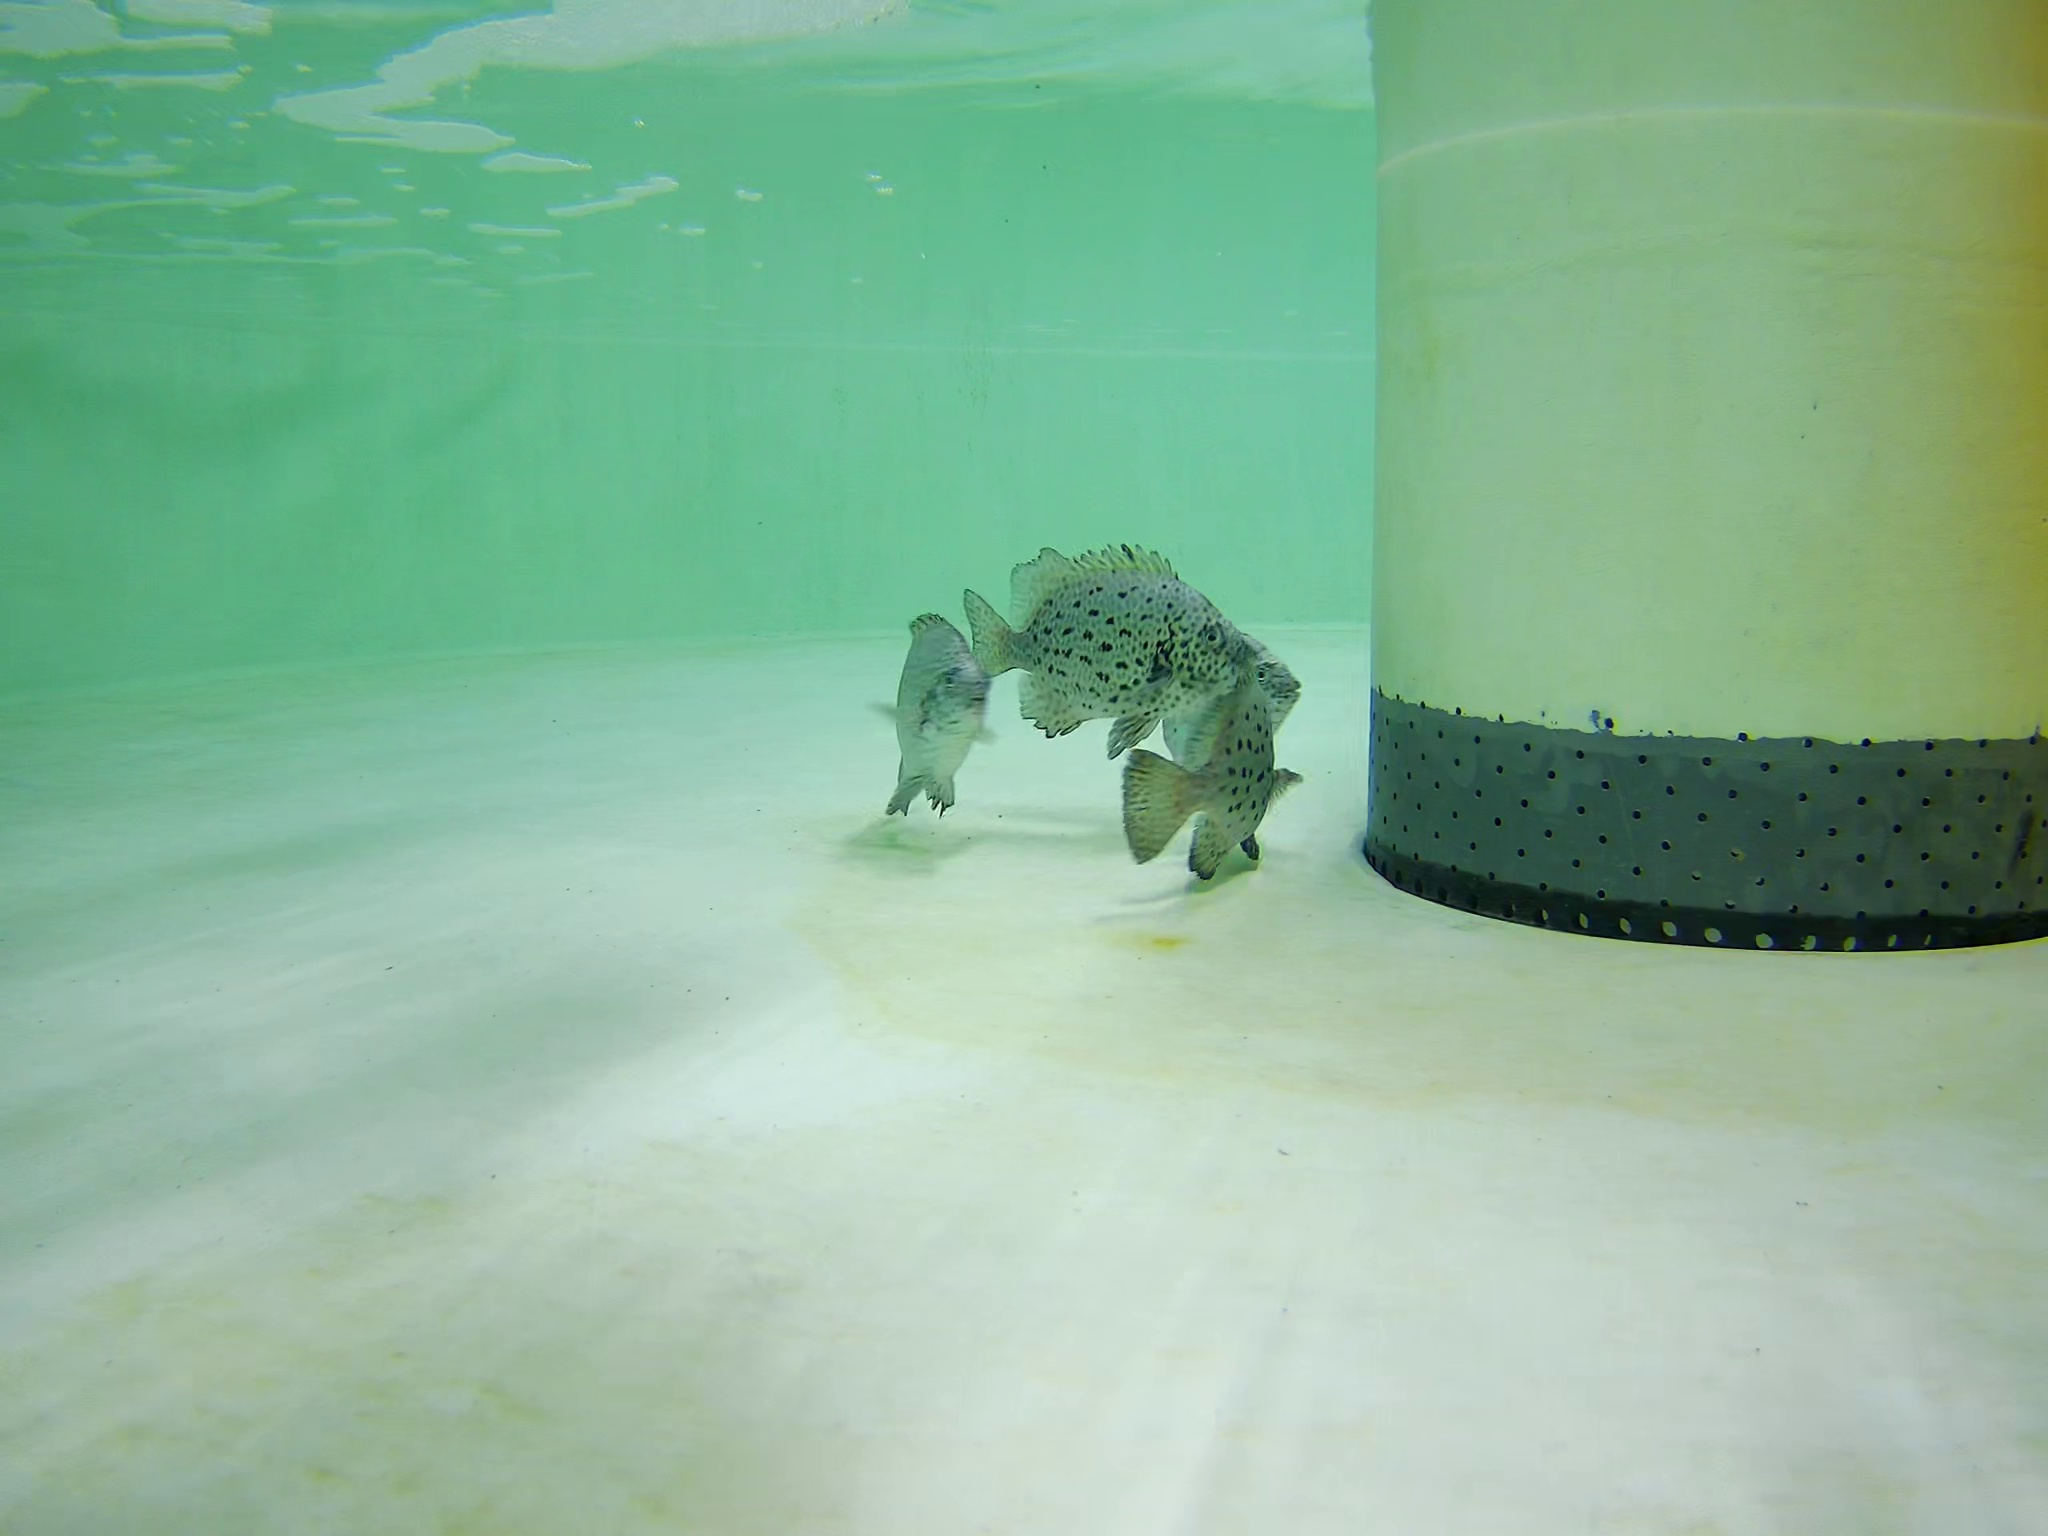fish: (942, 539, 1234, 723), (1118, 691, 1301, 892), (1148, 615, 1300, 755), (885, 610, 982, 816)
